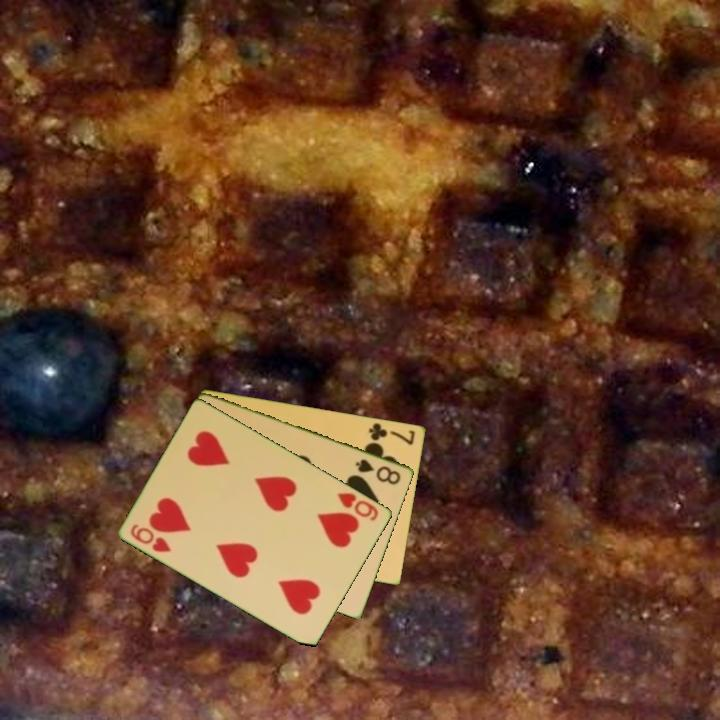6h: (334, 489, 382, 524), (127, 520, 174, 555)
7c: (366, 419, 418, 448)
8s: (352, 455, 404, 487)
